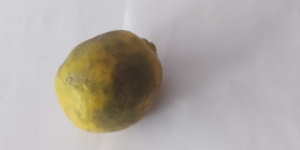BAD: (54, 30, 165, 132)
